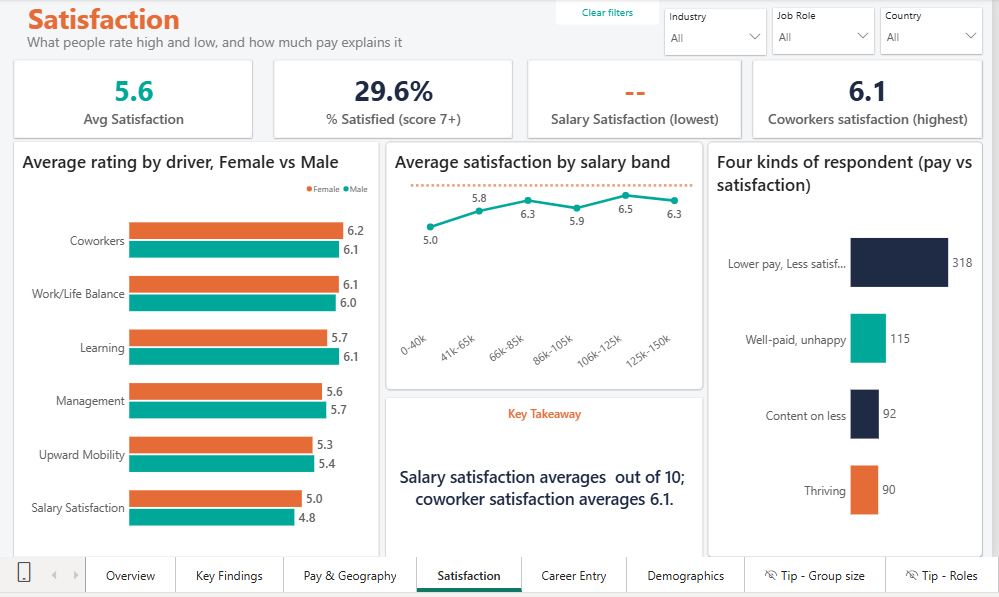

Layout of this report page (visuals, bound fields, positions):
{"tool":"powerbi","page":{"name":"Satisfaction","canvas":[1920,1080],"ordinal":3},"visuals":[{"type":"textbox","box":[53.7,0,507.9,90.8],"z":0},{"type":"textbox","box":[53.1,63.8,831.3,42.5],"z":1000},{"type":"slicer","fields":{"Values":["Data Professional Survey.Industry"]},"box":[1286.2,18.6,196.1,88.8],"z":2000},{"type":"slicer","fields":{"Values":["Data Professional Survey.Job Role"]},"box":[1496.8,16.5,196.1,88.8],"z":3000},{"type":"slicer","fields":{"Values":["Data Professional Survey.Country"]},"box":[1705.3,16.5,196.1,88.8],"z":4000},{"type":"cardVisual","fields":{"Data":["_Measures.Avg Satisfaction"]},"box":[26.8,117.7,461,150.9],"z":5000},{"type":"cardVisual","fields":{"Data":["_Measures.% Satisfied"]},"box":[530.6,117.7,461.3,150.9],"z":6000},{"type":"cardVisual","fields":{"Data":["_Measures.Salary Satisfaction Avg"]},"box":[1021.9,117.7,412.9,150.7],"z":7000},{"type":"cardVisual","fields":{"Data":["_Measures.Coworkers Avg"]},"box":[1457.5,117.7,443.9,150.7],"z":8000},{"type":"clusteredBarChart","title":"Average rating by driver, Female vs Male","fields":{"Category":["Drivers.Driver"],"Series":["Data Professional Survey.Gender"],"Y":["_Measures.Avg Driver Score"]},"box":[26.8,276.6,706.1,803.1],"z":9000},{"type":"clusteredBarChart","title":"Four kinds of respondent (pay vs satisfaction)","fields":{"Category":["Data Professional Survey.Persona"],"Y":["_Measures.Total Respondents"]},"box":[1370.8,276.6,530.6,803.1],"z":10000},{"type":"card","title":"Key Takeaway","fields":{"Values":["_Measures.Satisfaction Insight"]},"box":[747.4,772.1,613.2,307.6],"z":11000},{"type":"lineChart","title":"Average satisfaction by salary band","fields":{"Category":["Data Professional Survey.Salary_Range"],"Y":["_Measures.Avg Satisfaction (Safe)"]},"box":[747.4,276.6,613.2,479],"z":12000},{"type":"actionButton","box":[1075.6,0,200,50],"z":13000}]}

Visuals, with their boxes on the page's 1920x1080 design canvas (x1, y1, x2, y2). These are canvas units, not pixel positions in the 999x597 screenshot, which may show the page scaled, cropped or inside an application window:
textbox: <bbox>54, 0, 562, 91</bbox>
textbox: <bbox>53, 64, 884, 106</bbox>
slicer - Data Professional Survey.Industry: <bbox>1286, 19, 1482, 107</bbox>
slicer - Data Professional Survey.Job Role: <bbox>1497, 16, 1693, 105</bbox>
slicer - Data Professional Survey.Country: <bbox>1705, 16, 1901, 105</bbox>
cardVisual - _Measures.Avg Satisfaction: <bbox>27, 118, 488, 269</bbox>
cardVisual - _Measures.% Satisfied: <bbox>531, 118, 992, 269</bbox>
cardVisual - _Measures.Salary Satisfaction Avg: <bbox>1022, 118, 1435, 268</bbox>
cardVisual - _Measures.Coworkers Avg: <bbox>1458, 118, 1901, 268</bbox>
"Average rating by driver, Female vs Male" clusteredBarChart: <bbox>27, 277, 733, 1080</bbox>
"Four kinds of respondent (pay vs satisfaction)" clusteredBarChart: <bbox>1371, 277, 1901, 1080</bbox>
"Key Takeaway" card: <bbox>747, 772, 1361, 1080</bbox>
"Average satisfaction by salary band" lineChart: <bbox>747, 277, 1361, 756</bbox>
actionButton: <bbox>1076, 0, 1276, 50</bbox>
